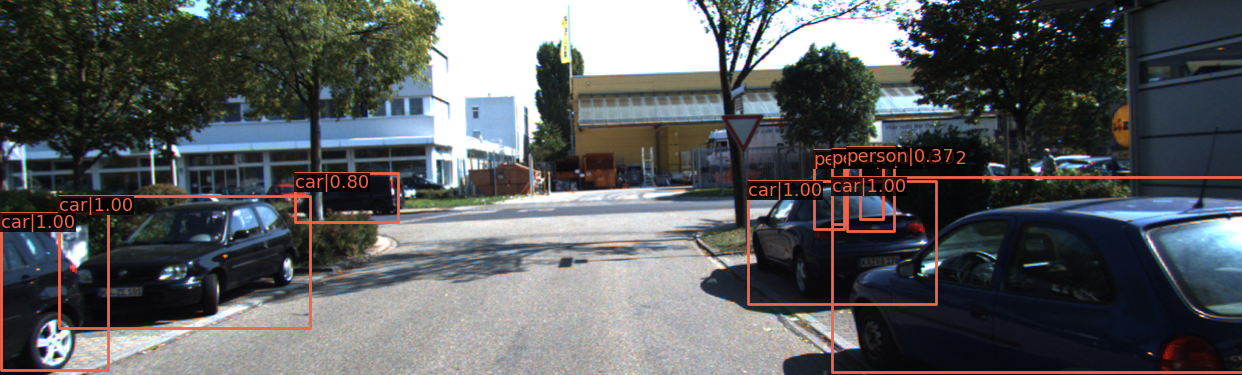car: (843, 189, 1242, 375), (67, 198, 305, 327), (749, 184, 937, 304), (1, 207, 109, 375)
person: (855, 144, 890, 241), (821, 150, 854, 246)
